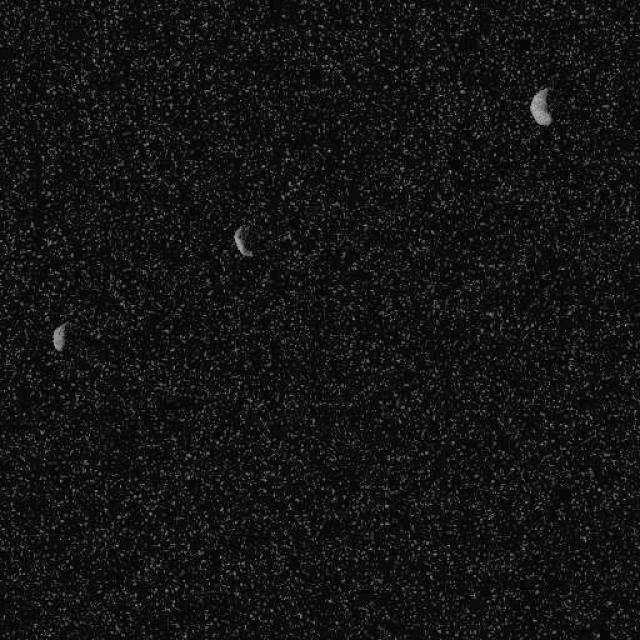D2: (528, 85, 552, 126), (231, 222, 254, 258), (50, 320, 69, 352)
